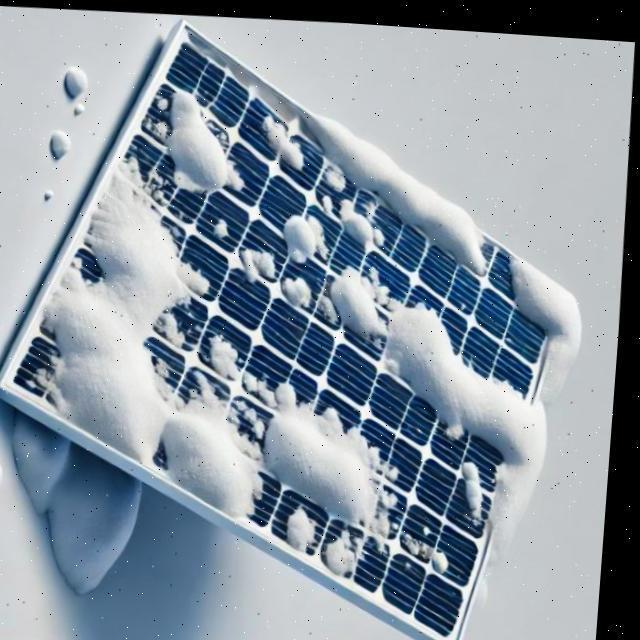Anomaly Solar Panel: (0, 21, 625, 637)
Snow: (0, 143, 386, 520), (311, 214, 593, 530), (163, 323, 443, 546), (271, 97, 519, 274), (136, 74, 256, 214), (493, 238, 592, 327), (253, 98, 319, 172), (329, 189, 399, 255), (398, 516, 466, 574), (281, 197, 341, 262), (468, 447, 497, 519), (282, 265, 321, 310), (336, 524, 370, 569), (240, 243, 280, 281), (294, 500, 323, 544), (214, 213, 234, 230)
